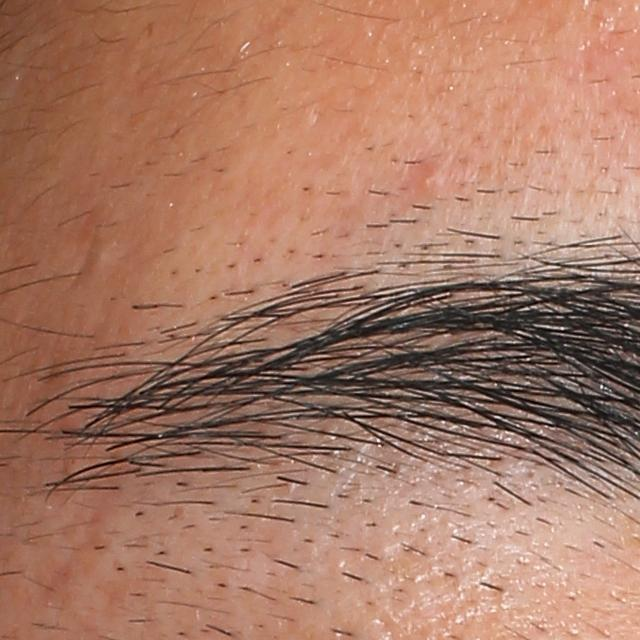comedo: (83, 243, 121, 273)
papule: (411, 157, 452, 202)
